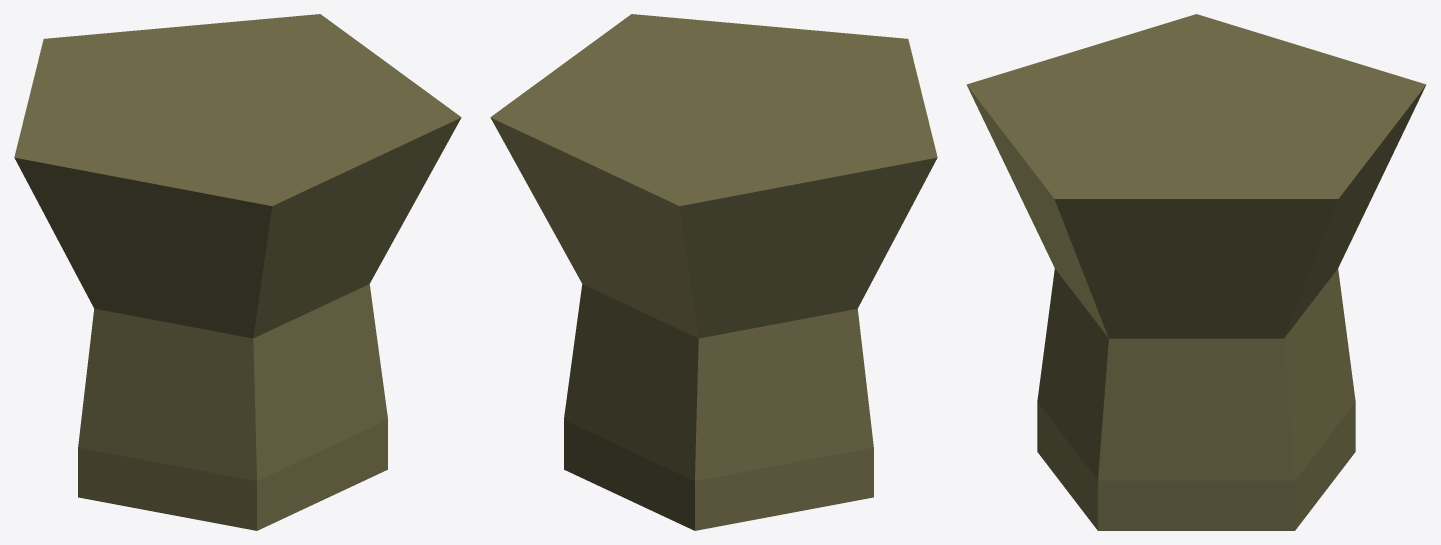
The model's file is animal_tortoise_leg.obj.
The picture shows the model from 3 angles, left to right: view 1: azimuth 30°, elevation 25°; view 2: azimuth 150°, elevation 25°; view 3: azimuth 270°, elevation 25°; orthographic projection.
Parts seen in each view (by area): view 1: animal_tortoise_leg; view 2: animal_tortoise_leg; view 3: animal_tortoise_leg.
Part boxes in pixels (x1,y1,x2,y2): animal_tortoise_leg: (14,14,461,530); animal_tortoise_leg: (490,14,937,530); animal_tortoise_leg: (966,14,1426,530).
Size of the model in its own units: 0.1075 by 0.0969 by 0.113.
